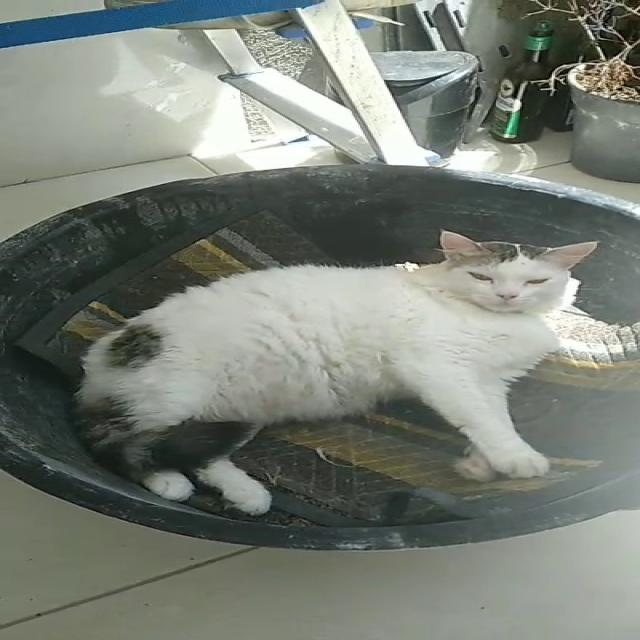Simba: (42, 209, 638, 519)
